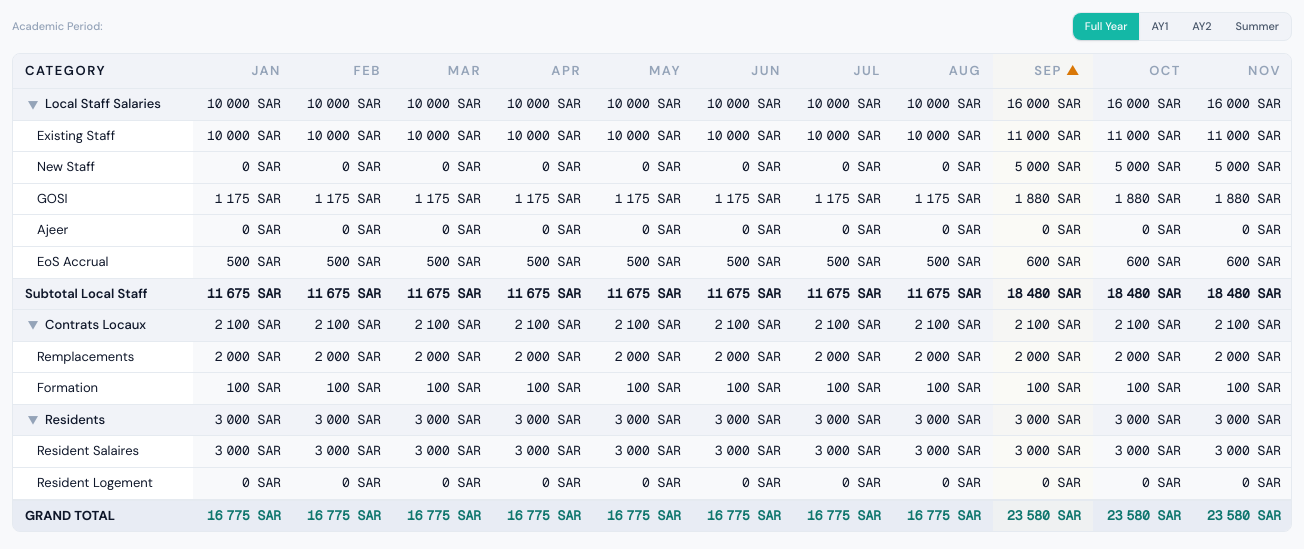
MonthlyCostBudgetGrid › AC-11: Category hierarchy with expandable parent rows › allows toggling expandable parent rows
Expected: the text "Existing Staff" is shown, top-left (13, 120), bottom-right (193, 152)
Click the button "▶ Local Staff Salaries" at (93, 104), box top-left (25, 95), bottom-right (161, 114)
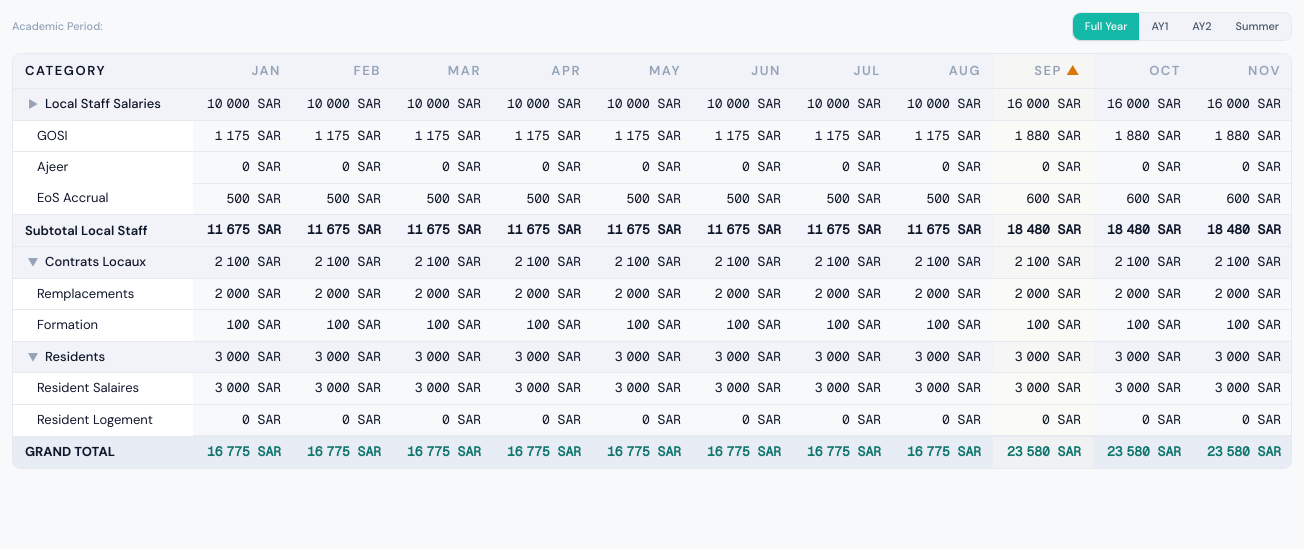
Result: the text "Existing Staff" is gone
